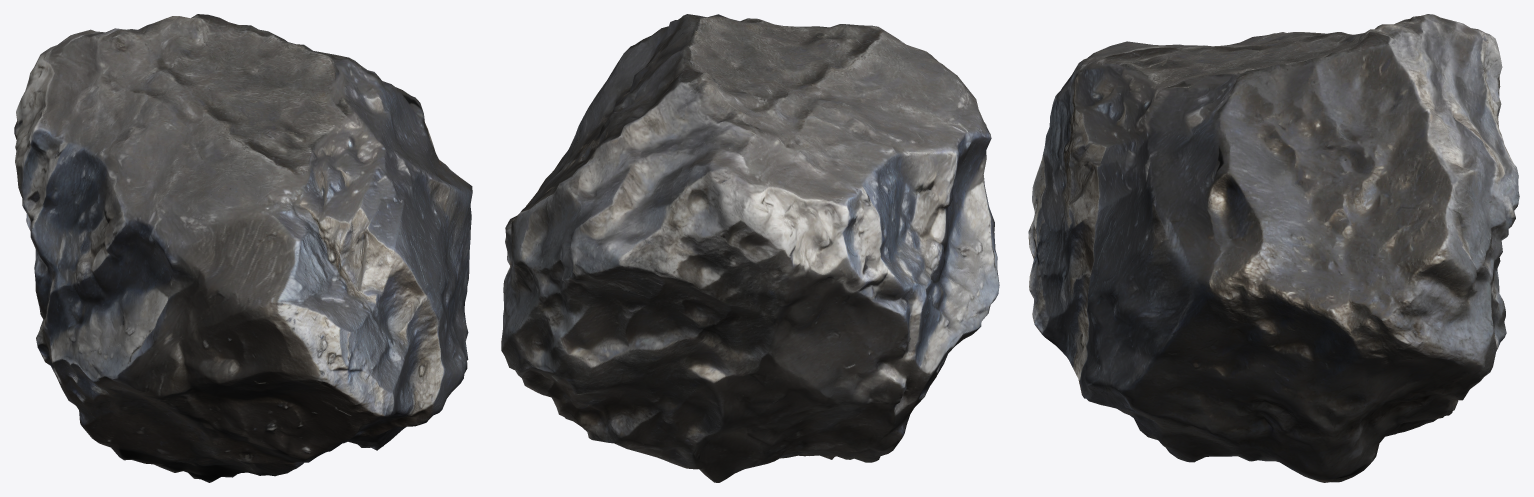
Rendered from iron.glb.
The picture shows the model from 3 angles, left to right: view 1: azimuth 30°, elevation 25°; view 2: azimuth 150°, elevation 25°; view 3: azimuth 270°, elevation 25°; orthographic projection. The views are drawn at different scales.
Bounding box in the file's own units: 1.82 × 1.83 × 2.
1 material, 1 textured.
